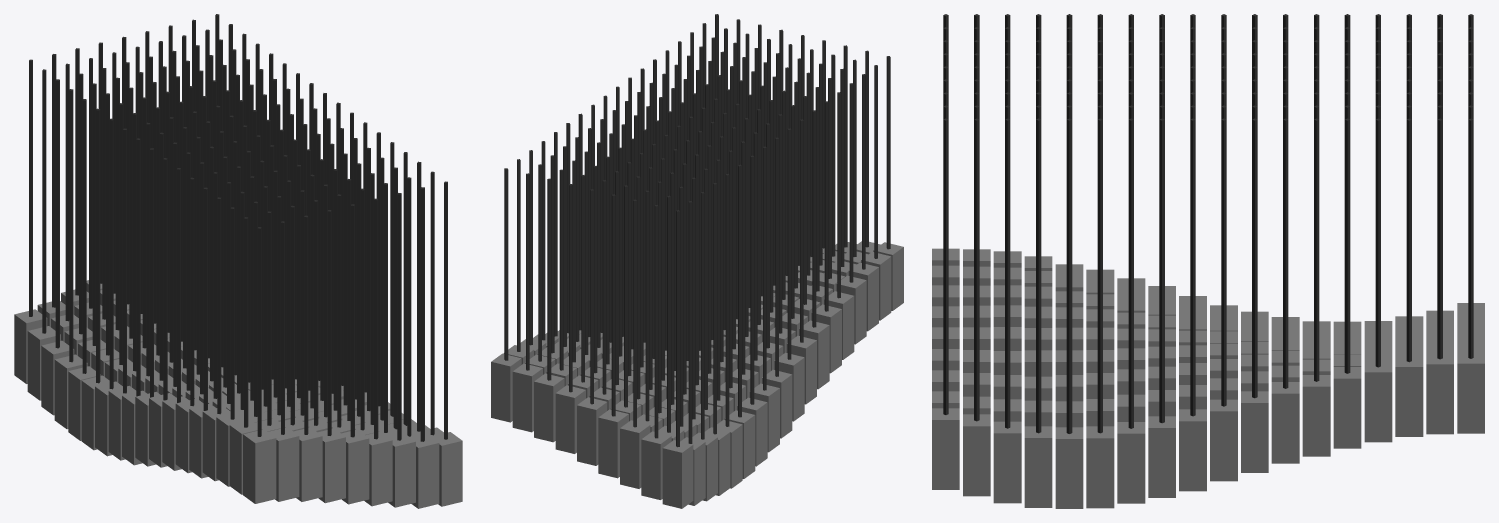
File: FancyCeiling.fbx
3 renders of one model, left to right at view 1: azimuth 30°, elevation 25°; view 2: azimuth 150°, elevation 25°; view 3: azimuth 270°, elevation 25°, orthographic. The views are drawn at different scales.
Visible parts, largest first — view 1: FancyCeiling; view 2: FancyCeiling; view 3: FancyCeiling.
Boxes of the visible parts, box(x1,y1,x2,y2) form: FancyCeiling: box(14, 14, 462, 508); FancyCeiling: box(491, 14, 903, 508); FancyCeiling: box(932, 14, 1484, 508).
Size of the model in its own units: 356 by 548 by 716.
